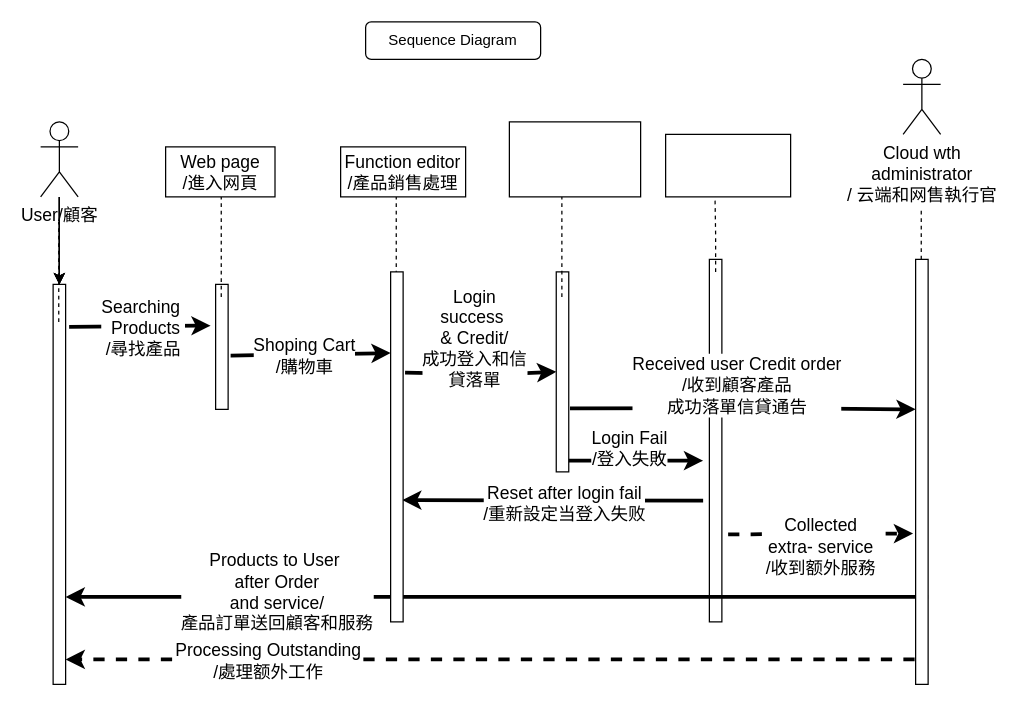
Image size: 1019x706. Some labels were removed from this diagram. Each missing label, with the centre of its shape:
Inquiry service /查詢服務: the point at 727,165
Logistic & credit /物流和售件结萛: the point at 574,159
